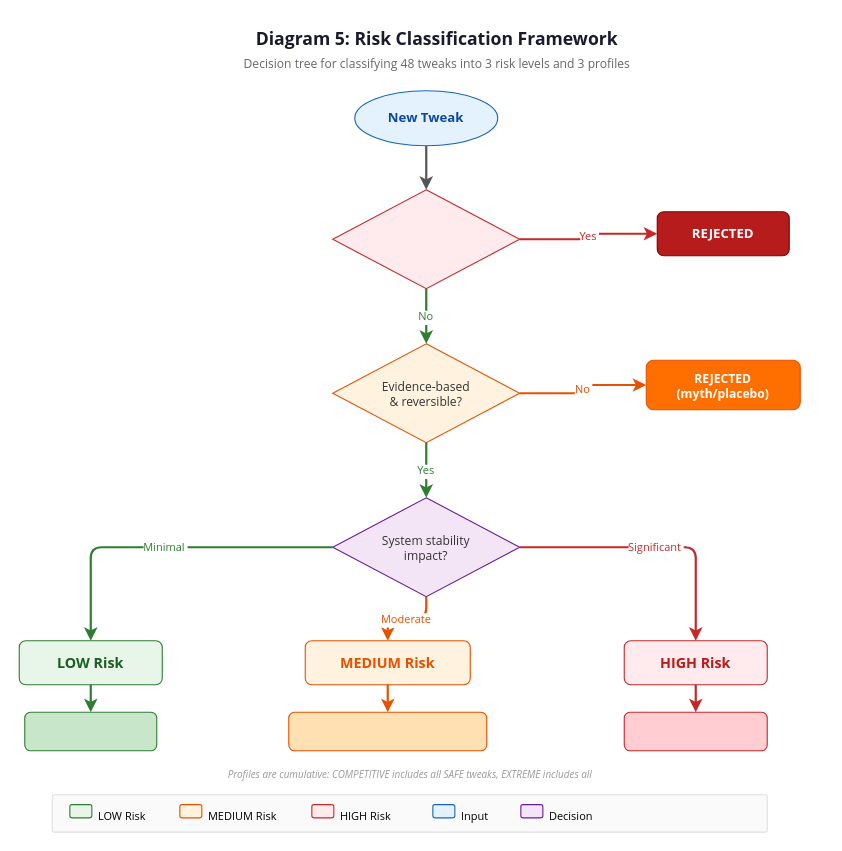
This 842x851 diagram has some shape labels left out. Each missing label, with the centre of its shape:
"COMPETITIVE Profile" goes at (x=387, y=731).
"EXTREME Profile" goes at (x=695, y=731).
"Modifies security features?" goes at (x=426, y=239).
"SAFE Profile" goes at (x=90, y=731).
